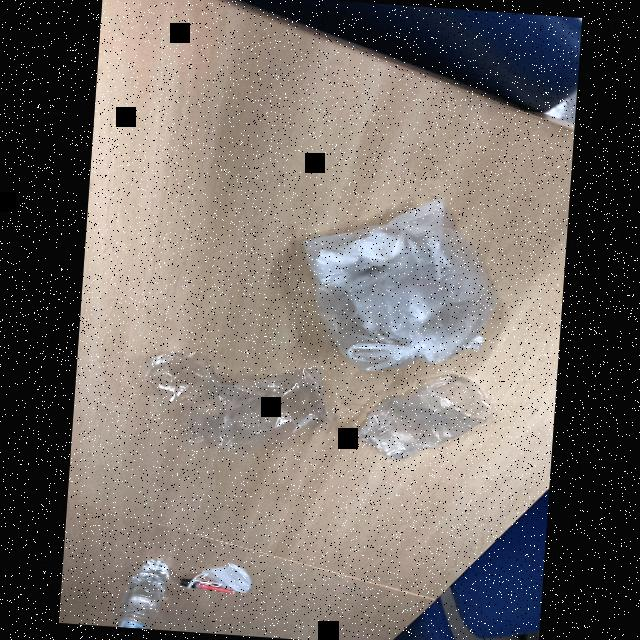plastic_bag: (292, 195, 514, 366)
scrap_plastic: (138, 334, 338, 454), (342, 356, 504, 474)
